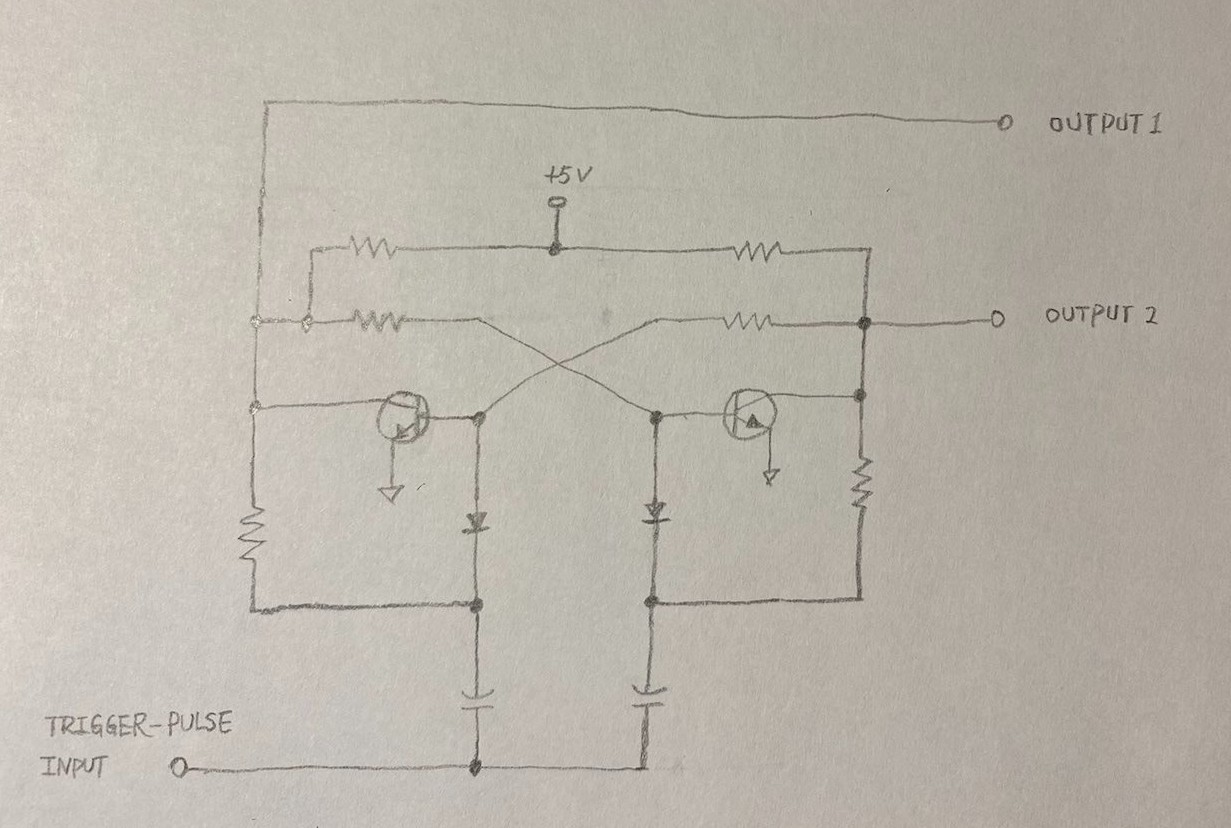capacitor.unpolarized: (627, 678, 674, 713), (455, 683, 499, 713)
diode: (455, 507, 497, 538), (638, 498, 677, 528)
gnd: (373, 475, 409, 507), (758, 460, 785, 489)
junction: (541, 345, 576, 382), (638, 400, 672, 437), (238, 390, 275, 423), (460, 748, 492, 786), (457, 588, 496, 619), (235, 592, 272, 624), (536, 235, 576, 264), (635, 585, 670, 616), (291, 304, 321, 340), (626, 754, 663, 783), (241, 304, 273, 337), (845, 380, 879, 411), (841, 584, 877, 613), (462, 400, 492, 433), (299, 239, 331, 265), (851, 308, 879, 337), (854, 239, 883, 266), (252, 88, 281, 113), (466, 305, 493, 331), (640, 308, 668, 332)
resistor: (341, 228, 409, 264), (845, 450, 880, 517), (344, 305, 417, 337), (236, 501, 272, 565), (725, 237, 788, 268), (711, 308, 783, 335)
terminal: (984, 102, 1025, 142), (979, 300, 1012, 338), (543, 190, 581, 220), (160, 753, 196, 784)
text: (39, 703, 239, 741), (1046, 104, 1171, 142), (1040, 298, 1161, 331), (35, 751, 113, 784), (537, 155, 598, 187)
transistor: (370, 384, 434, 452), (718, 382, 782, 445)
